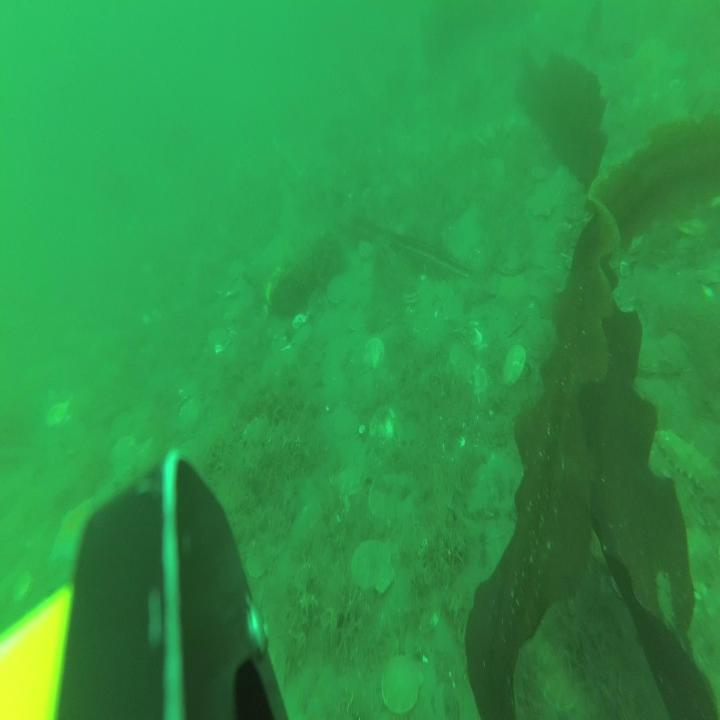holothurian: (654, 421, 720, 506)
scallop: (352, 540, 397, 600), (382, 653, 422, 714), (659, 327, 686, 374), (480, 161, 508, 204), (110, 439, 137, 483), (369, 404, 397, 442), (246, 539, 270, 582), (178, 398, 204, 437), (450, 341, 476, 380), (505, 344, 526, 391), (48, 396, 70, 435), (530, 187, 558, 217), (327, 273, 347, 312), (209, 324, 230, 360), (364, 336, 385, 369)
starfish: (54, 496, 93, 572)
